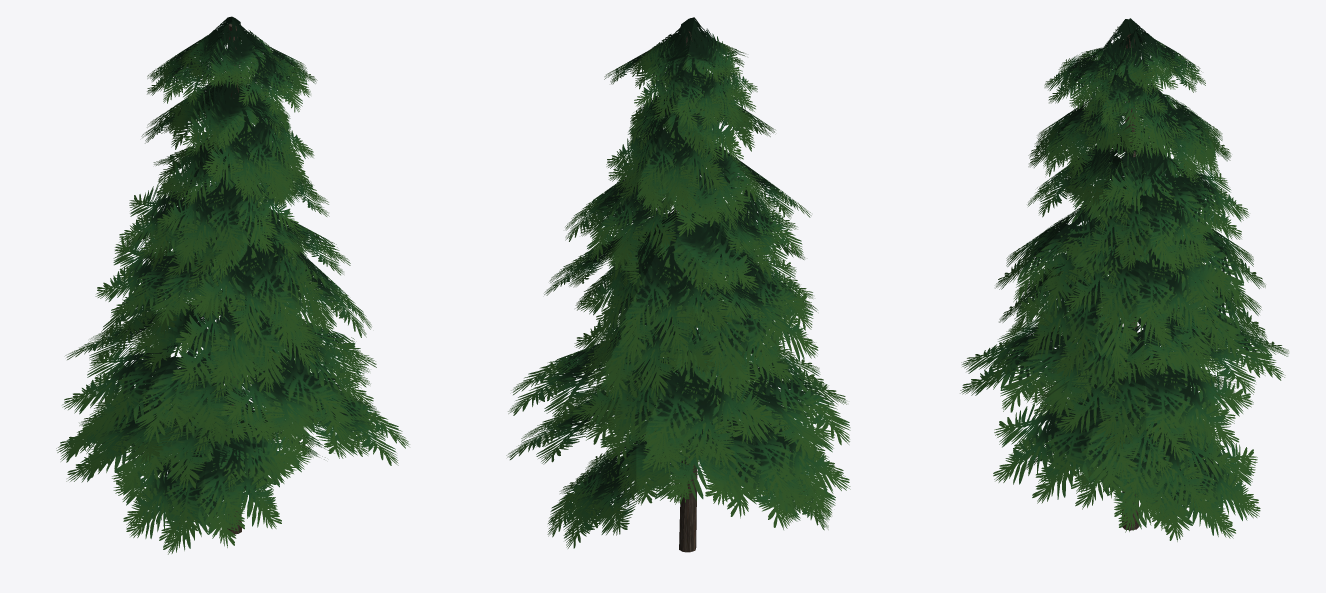
The model's file is pinetree.fbx.
The picture shows the model from 3 angles, left to right: view 1: azimuth 30°, elevation 25°; view 2: azimuth 150°, elevation 25°; view 3: azimuth 270°, elevation 25°; orthographic projection. The views are drawn at different scales.
Parts seen in each view (by area): view 1: pine_tree_LOD0; view 2: pine_tree_LOD0; view 3: pine_tree_LOD0.
Boxes of the visible parts, x1,y1,x2,y2 form: pine_tree_LOD0: (56,16,409,554); pine_tree_LOD0: (506,17,850,552); pine_tree_LOD0: (960,18,1288,541).
Size of what is drawn, in the model's own units: 419 by 581 by 402.
2 materials, 2 textured.
